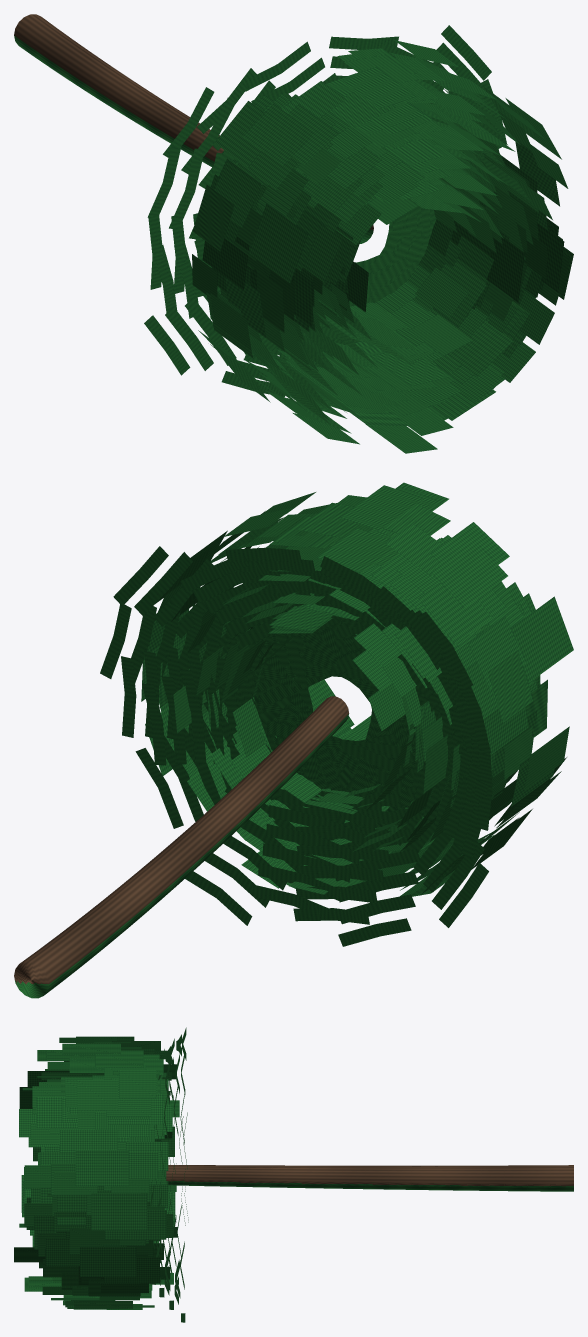
File: veg_tropical_palm_01.glb
3 renders of one model, top to bottom at view 1: azimuth 30°, elevation 25°; view 2: azimuth 150°, elevation 25°; view 3: azimuth 270°, elevation 25°, orthographic. The views are drawn at different scales.
Visible parts, largest first — view 1: veg_tropical_palm_01; view 2: veg_tropical_palm_01; view 3: veg_tropical_palm_01.
Part boxes in pixels (bbox=[...]): veg_tropical_palm_01: bbox=[14, 14, 573, 453]; veg_tropical_palm_01: bbox=[14, 482, 573, 998]; veg_tropical_palm_01: bbox=[14, 1027, 573, 1322].
Bounding box in the file's own units: 2.94 × 2.76 × 5.5.
1 material, 1 textured.
